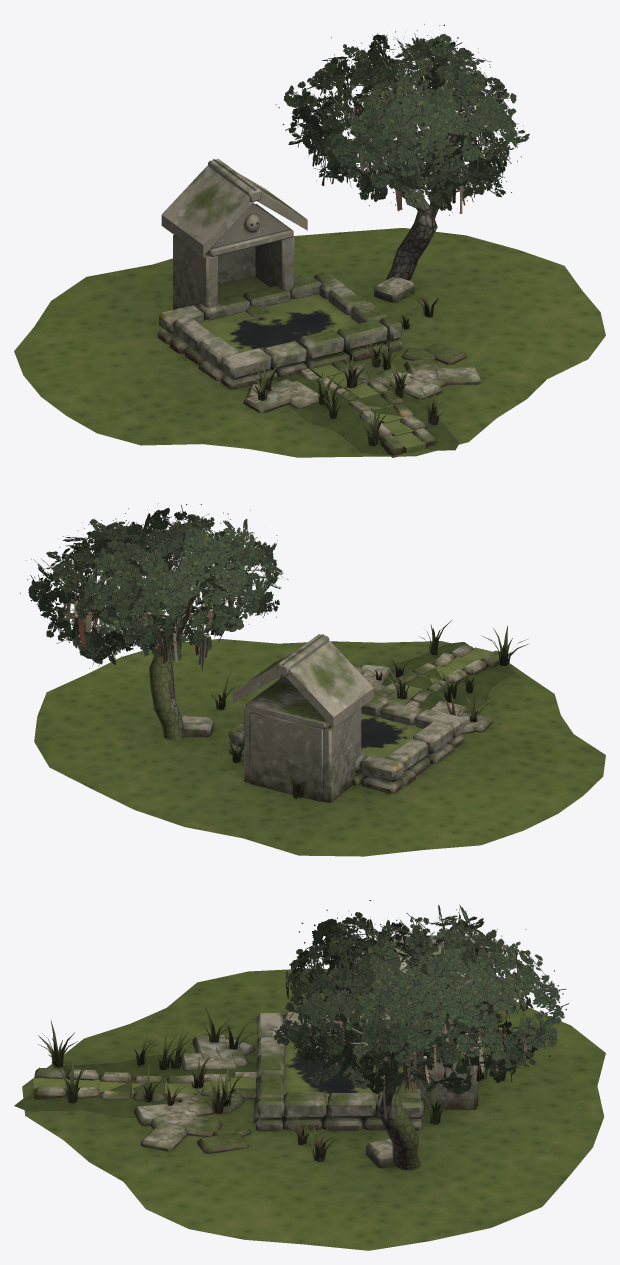
The model's file is holy_spring.glb.
3 renders of one model, top to bottom at view 1: azimuth 30°, elevation 25°; view 2: azimuth 150°, elevation 25°; view 3: azimuth 270°, elevation 25°, orthographic. The views are drawn at different scales.
Visible parts, largest first — view 1: holy_spring_LOD0, holy_spring_thorn_LOD0; view 2: holy_spring_LOD0, holy_spring_thorn_LOD0; view 3: holy_spring_LOD0, holy_spring_thorn_LOD0.
Boxes of the visible parts, bbox=[...] form: holy_spring_LOD0: bbox=[14, 56, 605, 457]; holy_spring_thorn_LOD0: bbox=[275, 24, 529, 215]; holy_spring_LOD0: bbox=[34, 539, 605, 856]; holy_spring_thorn_LOD0: bbox=[20, 503, 288, 669]; holy_spring_LOD0: bbox=[14, 935, 605, 1250]; holy_spring_thorn_LOD0: bbox=[269, 900, 568, 1094].
Size of what is drawn, in the model's own units: 8.53 by 3.8 by 7.57.
Materials: 2 (2 with a texture image).
